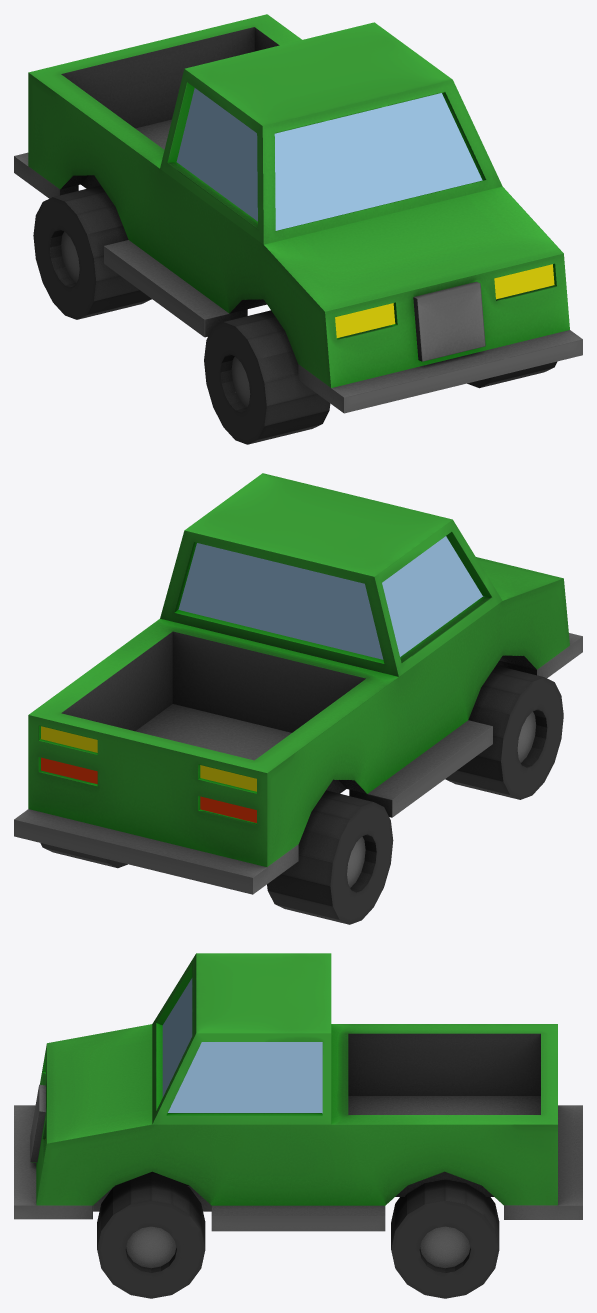
Rendered from low poly truck.fbx.
3 views of the same model, one above another, from view 1: azimuth 30°, elevation 25°; view 2: azimuth 150°, elevation 25°; view 3: azimuth 270°, elevation 25° (orthographic). The views are drawn at different scales.
Parts seen in each view (by area): view 1: Chassis; view 2: Chassis; view 3: Chassis.
Part boxes in pixels (box(x1,y1,x2,y2)): Chassis: box(14, 14, 582, 444); Chassis: box(14, 473, 582, 924); Chassis: box(14, 953, 582, 1298).
Bounding box in the file's own units: 622 × 564 × 1197.
Materials: 2 (2 with a texture image).
